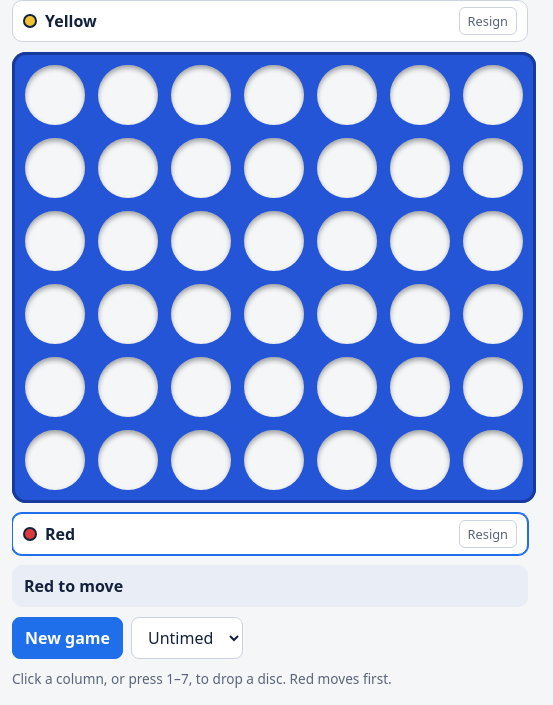
Test: ConnectFourGame › drops a disc and passes the turn
What coordinates should you click on to do the following:
click the button named "Column 4, 6 free"
I would click on:
 (274, 277)
Its box is [237,58,310,497].
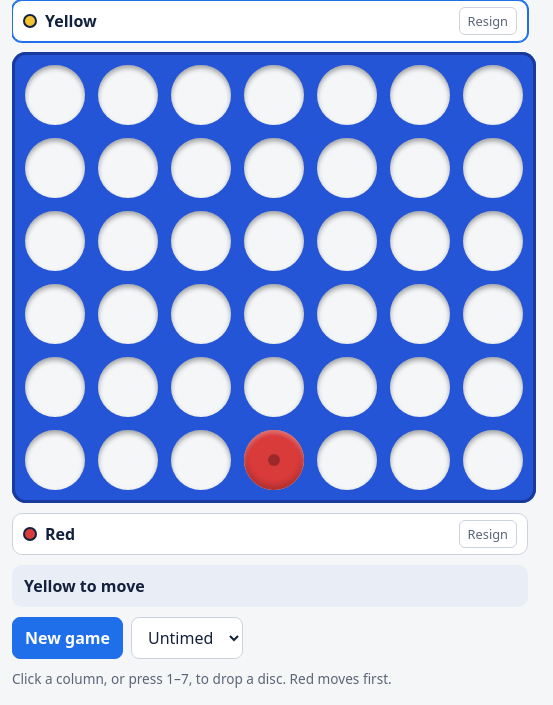
Now the text "Yellow to move" is shown, box [12,565,528,607]
